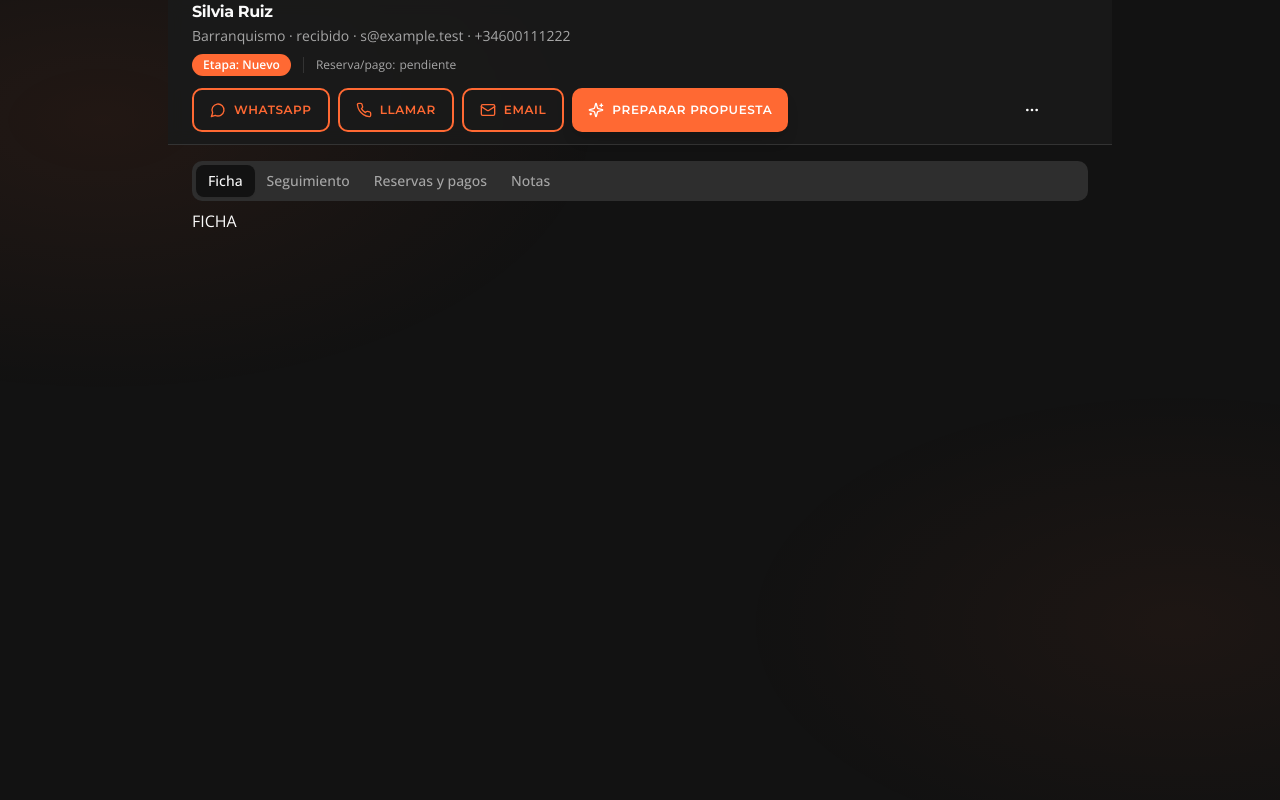
it: keeps the proposal message after closing and reopening the dialog
This screenshot has width=1280, height=800.
Click the button "Preparar propuesta": (680, 110) left=572, top=88, right=788, bottom=132
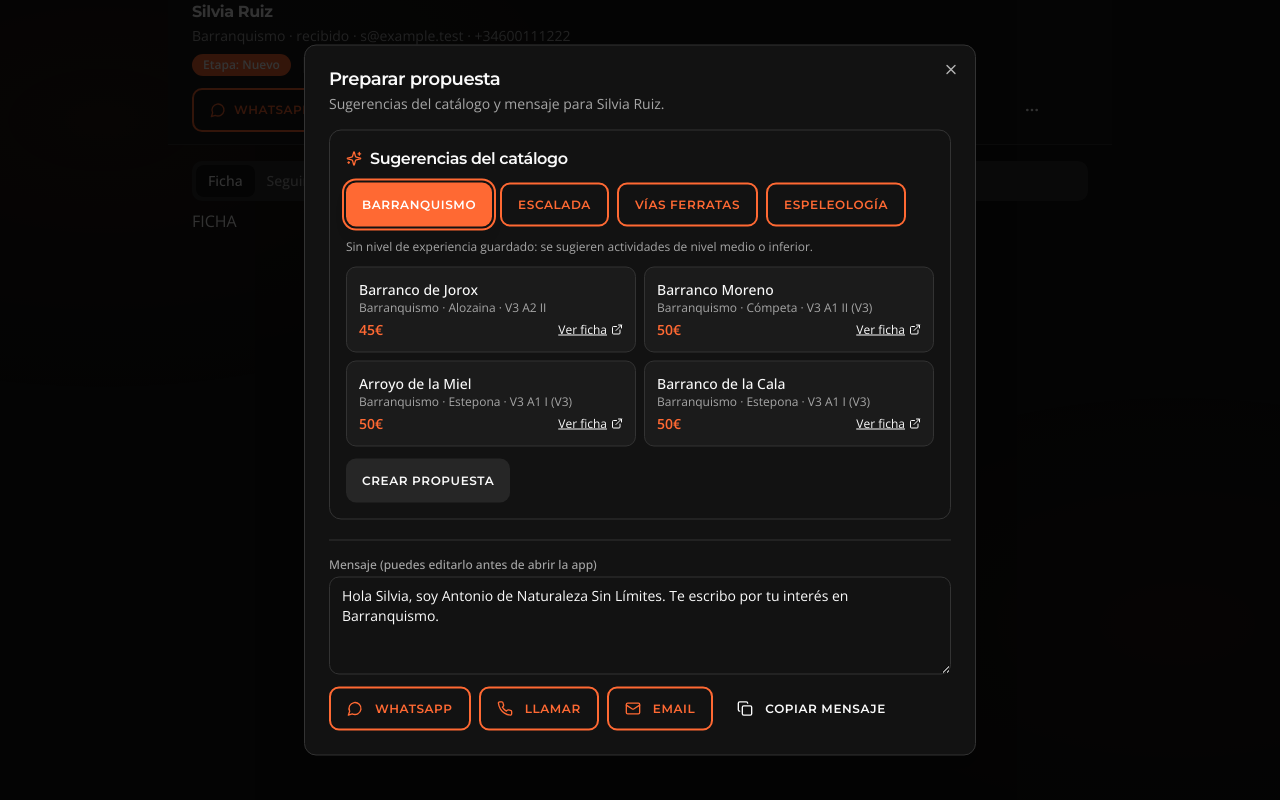
Replace the text in the text box labelled "Mensaje (puedes editarlo antes de abrir la app)" with "Propuesta a medida": (640, 626) left=329, top=576, right=951, bottom=674
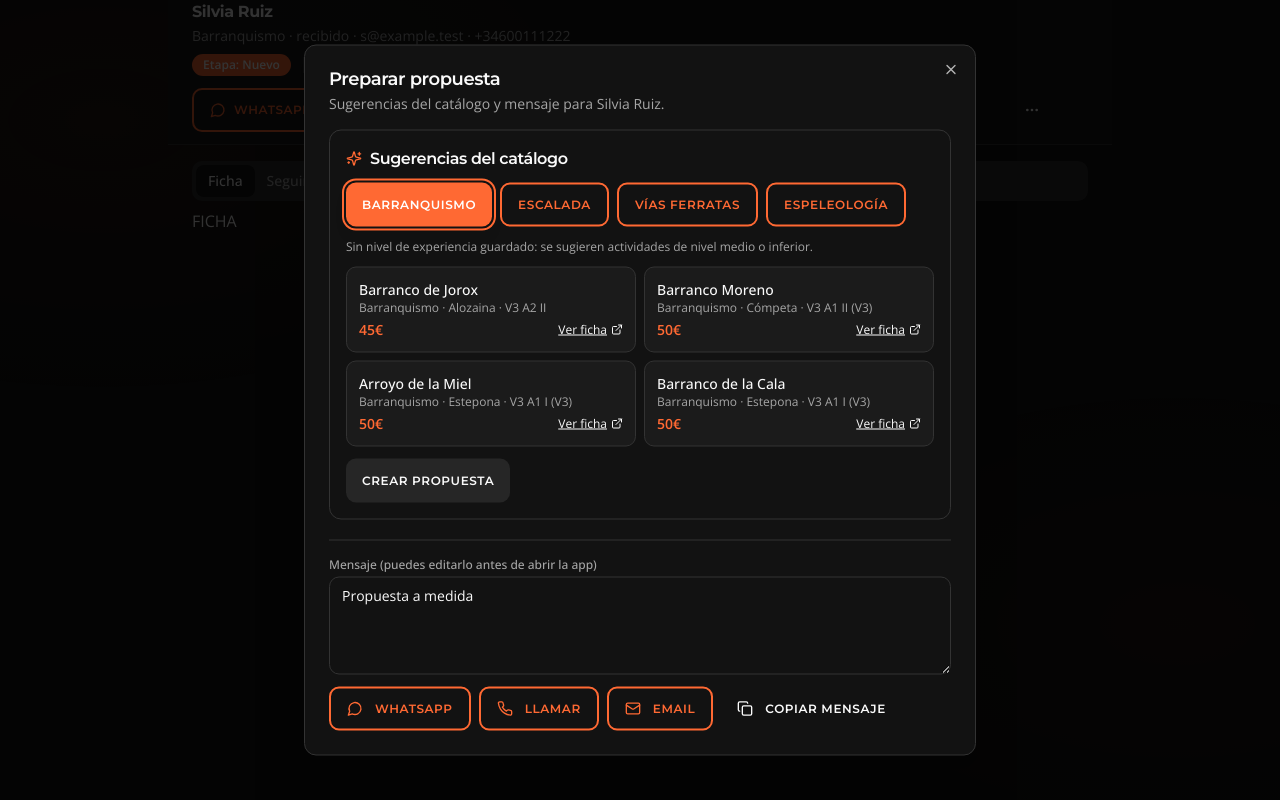
Press Escape in the button "Barranquismo", box left=346, top=182, right=492, bottom=226
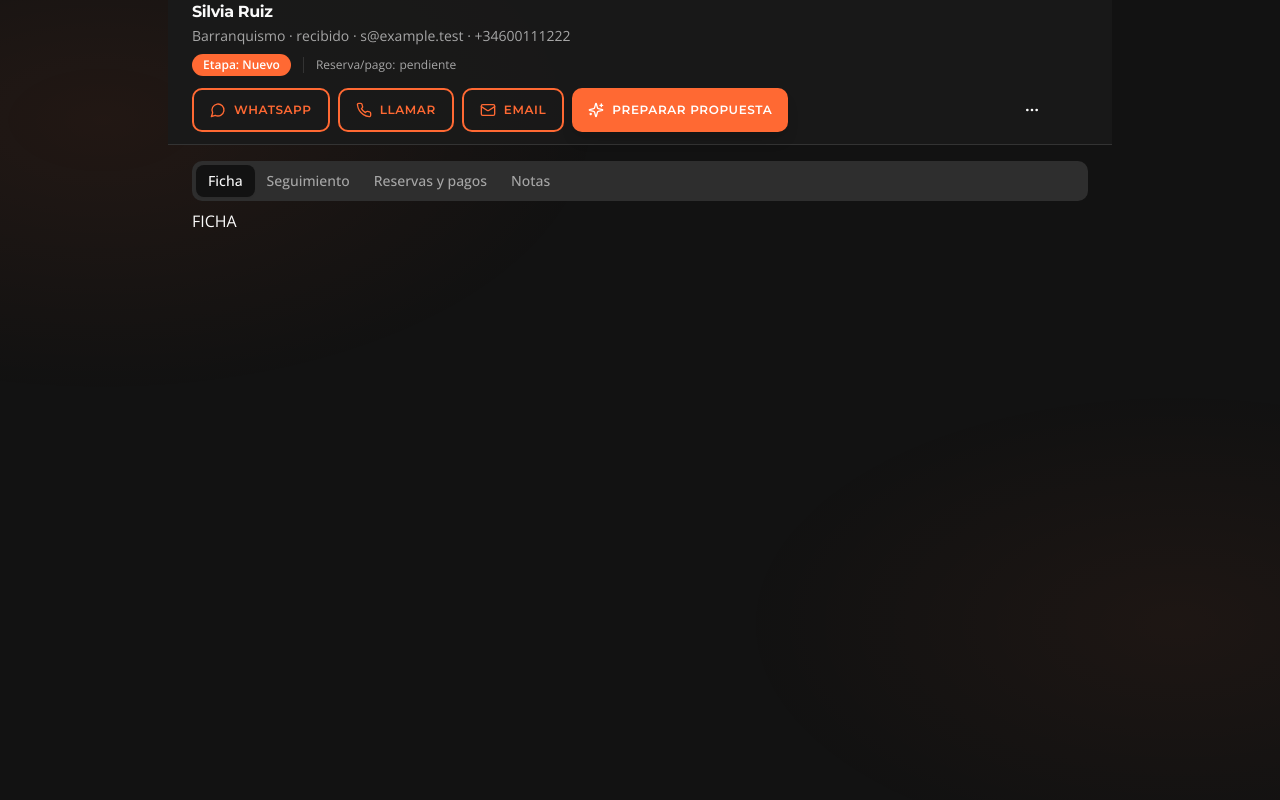
Click the button "Preparar propuesta": (680, 110) left=572, top=88, right=788, bottom=132
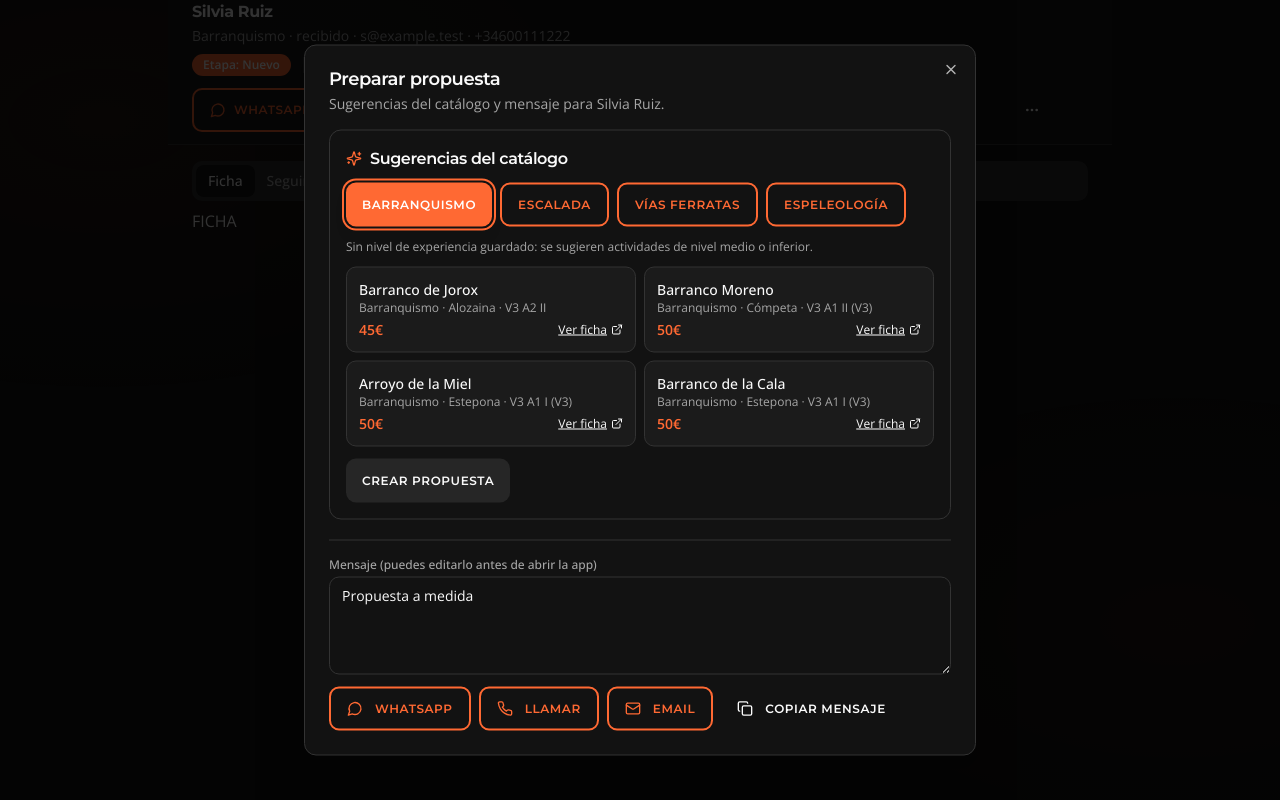
expect the text box labelled "Mensaje (puedes editarlo antes de abrir la app)" holds "Propuesta a medida": met, box left=329, top=576, right=951, bottom=674
